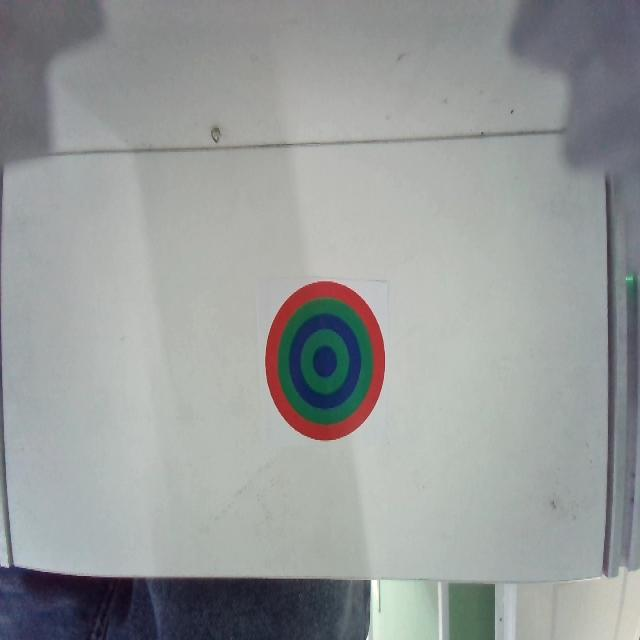cogn: (266, 280, 385, 440)
